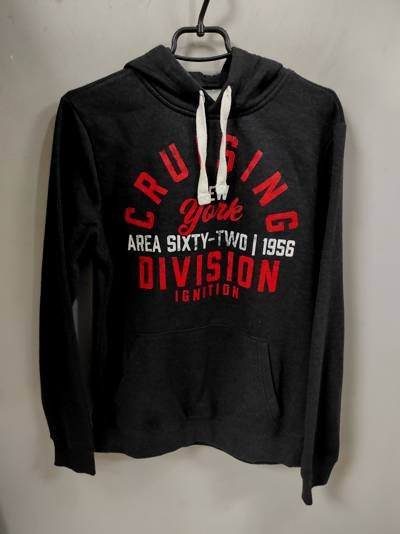Hoodie: (20, 26, 366, 495)
